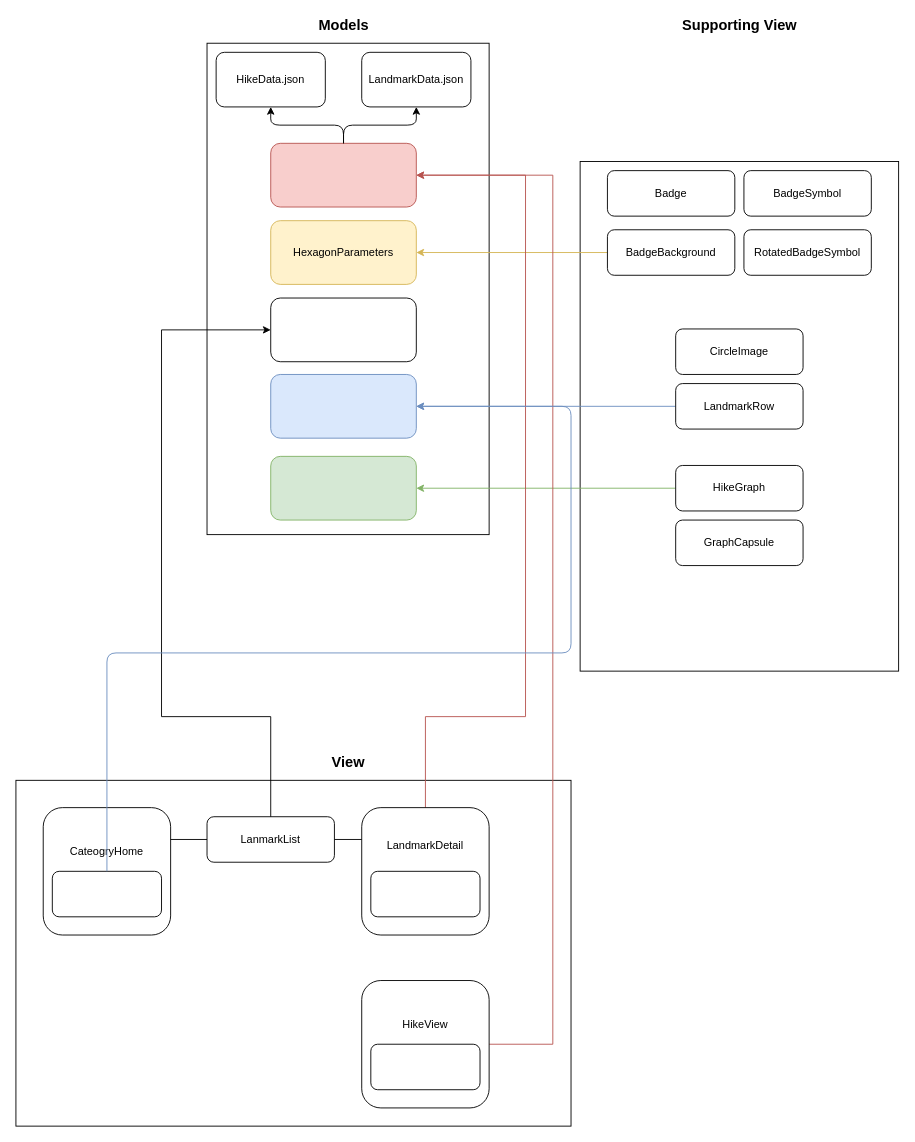
This 915x1142 diagram has some shape labels left out. The shapes that lost their labels are listed below. From the top down, each one's centre as x and y in pixels, then its label:
point (343, 174): Data
point (343, 329): UserData
point (343, 406): Landmark
point (343, 487): Hike
point (106, 893): CategoryRow
point (425, 893): MapView
point (425, 1066): HikeDetail
